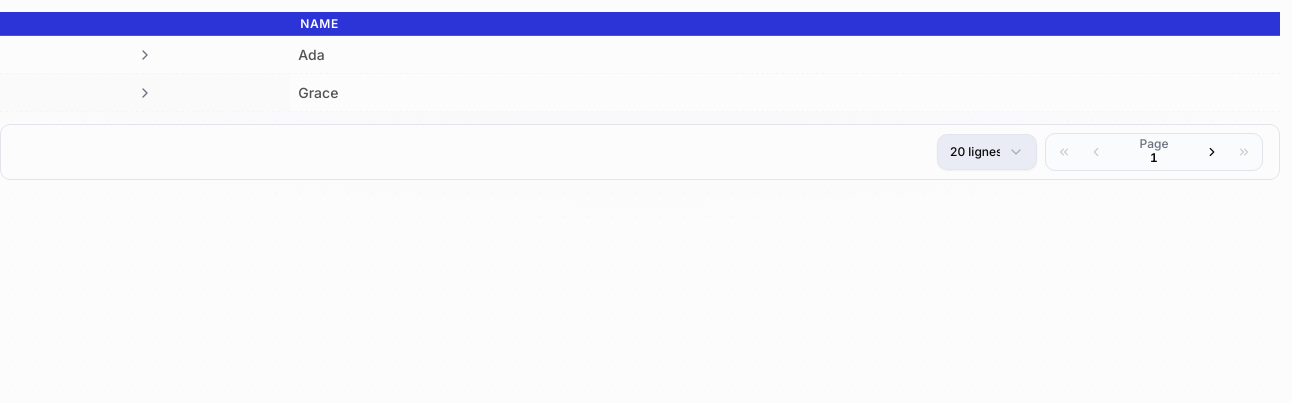
Test: DynamicTable behaviors › allows multiple row-detail panels to be expanded at once
Step 1. Click the button named "Expand row 1" → [145, 54], box x1=135 y1=44 x2=155 y2=64
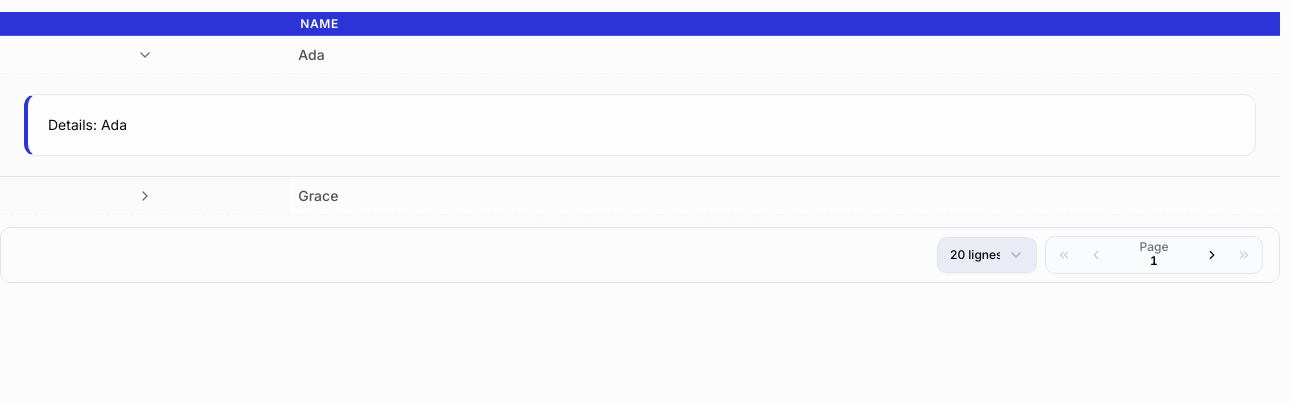
Step 2. Click the button named "Expand row 2" → [145, 196], box x1=135 y1=186 x2=155 y2=206
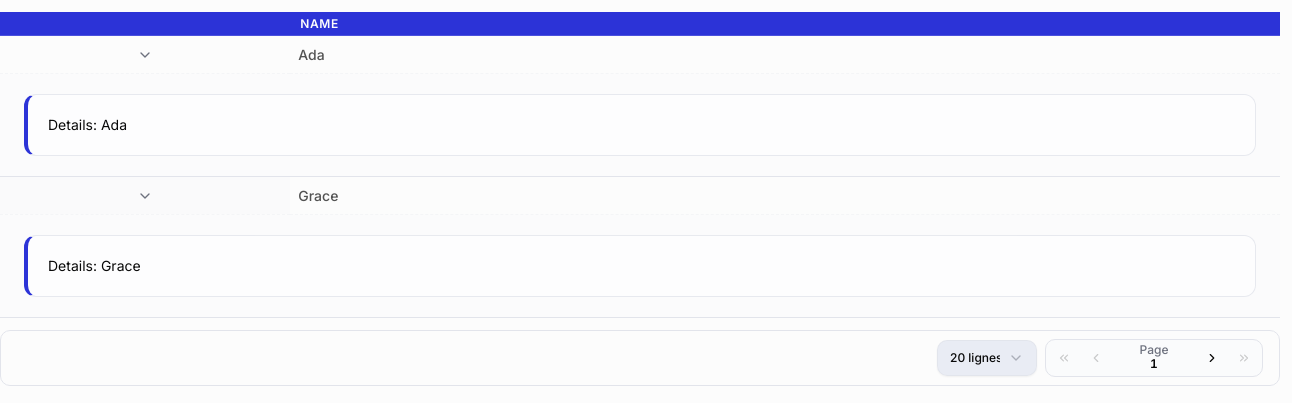
Result: the text "Details: Ada" is shown at x1=48 y1=116 x2=127 y2=133
Result: the text "Details: Grace" is shown at x1=48 y1=257 x2=141 y2=274
